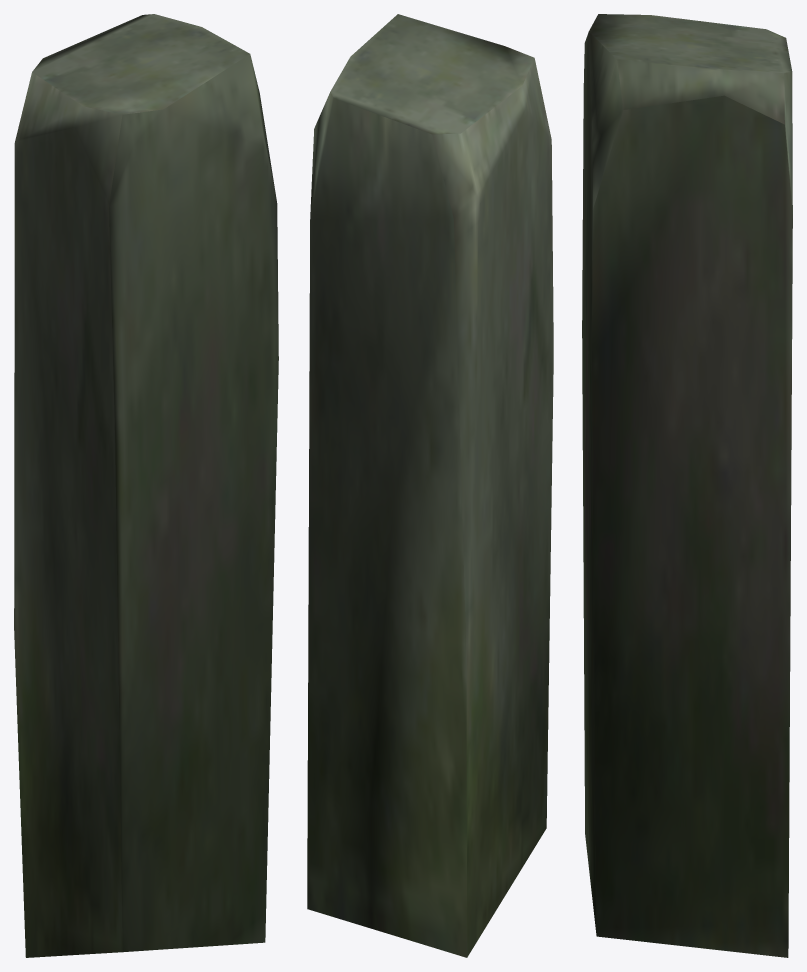
The model's file is rock_C2.fbx.
The picture shows the model from 3 angles, left to right: view 1: azimuth 30°, elevation 25°; view 2: azimuth 150°, elevation 25°; view 3: azimuth 270°, elevation 25°; orthographic projection. The views are drawn at different scales.
Parts seen in each view (by area): view 1: rock_C2; view 2: rock_C2; view 3: rock_C2.
Boxes of the visible parts, x1,y1,x2,y2 form: rock_C2: (14, 14, 278, 957); rock_C2: (307, 14, 553, 957); rock_C2: (582, 14, 792, 957).
Size of the model in its own units: 2.17 by 10.83 by 2.26.
